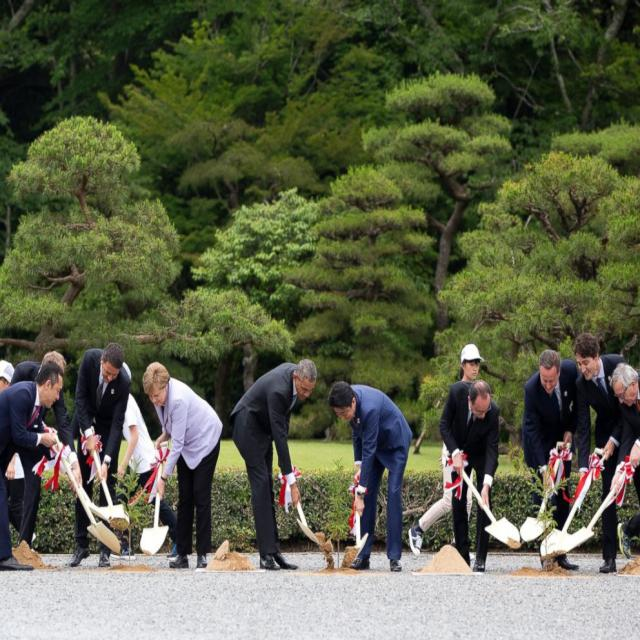body: (228, 354, 318, 574), (326, 377, 415, 577), (407, 342, 485, 562), (142, 362, 224, 570), (5, 349, 84, 554), (0, 357, 72, 574), (519, 344, 586, 575), (67, 340, 133, 569), (572, 330, 632, 575), (109, 357, 180, 559), (438, 378, 501, 573), (0, 358, 35, 548), (608, 362, 640, 508), (618, 506, 640, 562)
